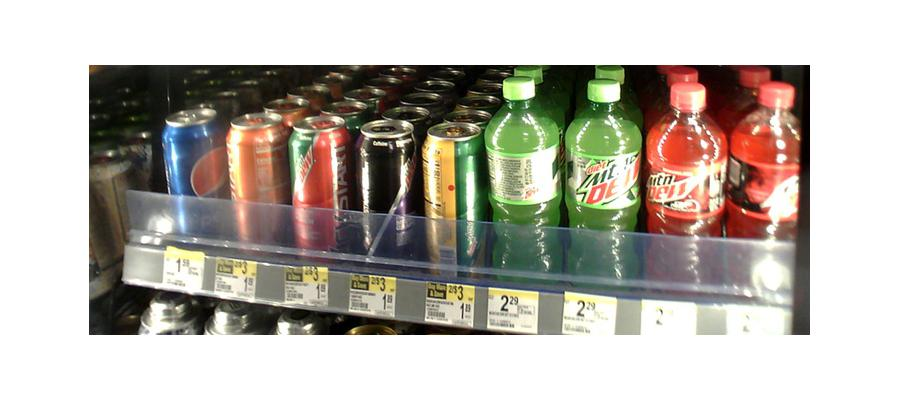bottle: (648, 79, 725, 280), (566, 77, 640, 284), (489, 77, 560, 279), (725, 77, 800, 265), (422, 119, 485, 273), (352, 118, 415, 264), (226, 109, 287, 246), (164, 107, 225, 239), (289, 115, 348, 250)
